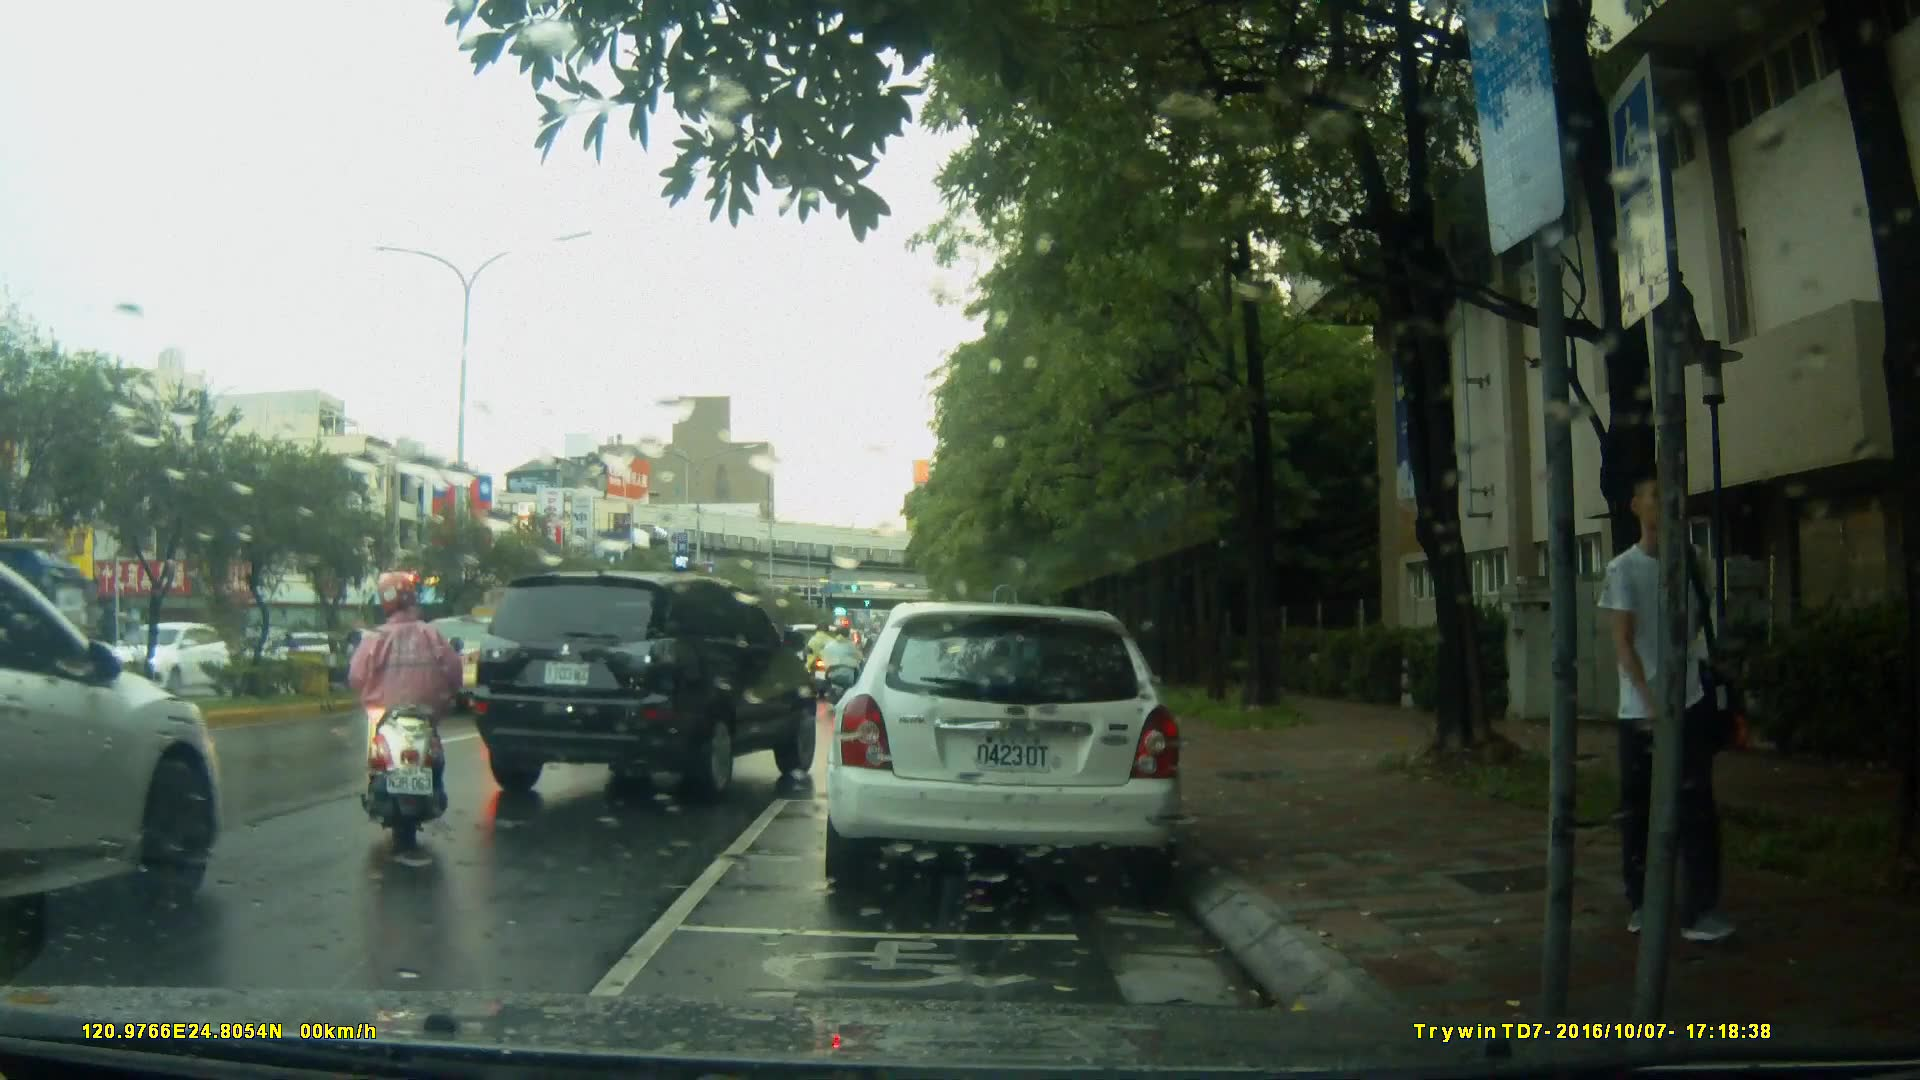pedestrian: (1602, 452, 1746, 961)
rider: (349, 567, 466, 838), (818, 621, 871, 718), (807, 626, 839, 698)
vehicle: (820, 602, 1188, 898), (2, 522, 226, 961), (468, 569, 821, 800), (114, 623, 237, 707)
